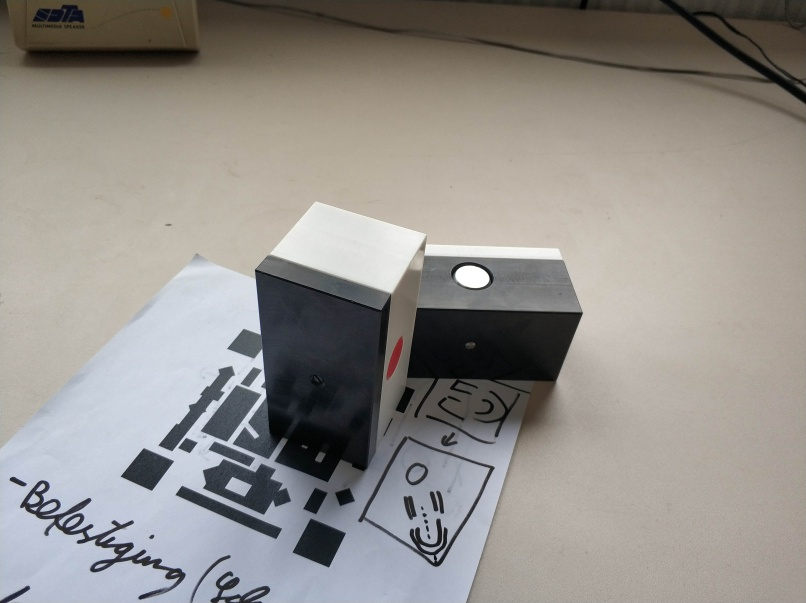black+white+red: (256, 199, 428, 475)
white+black+silver: (409, 241, 582, 384)
